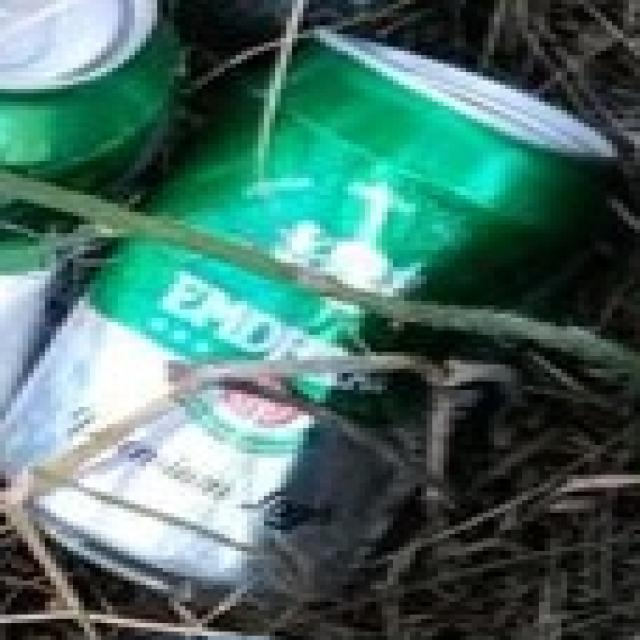can: (50, 0, 640, 603)
